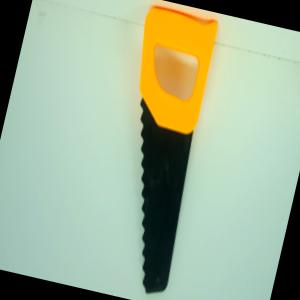serrote: (82, 2, 228, 296)
